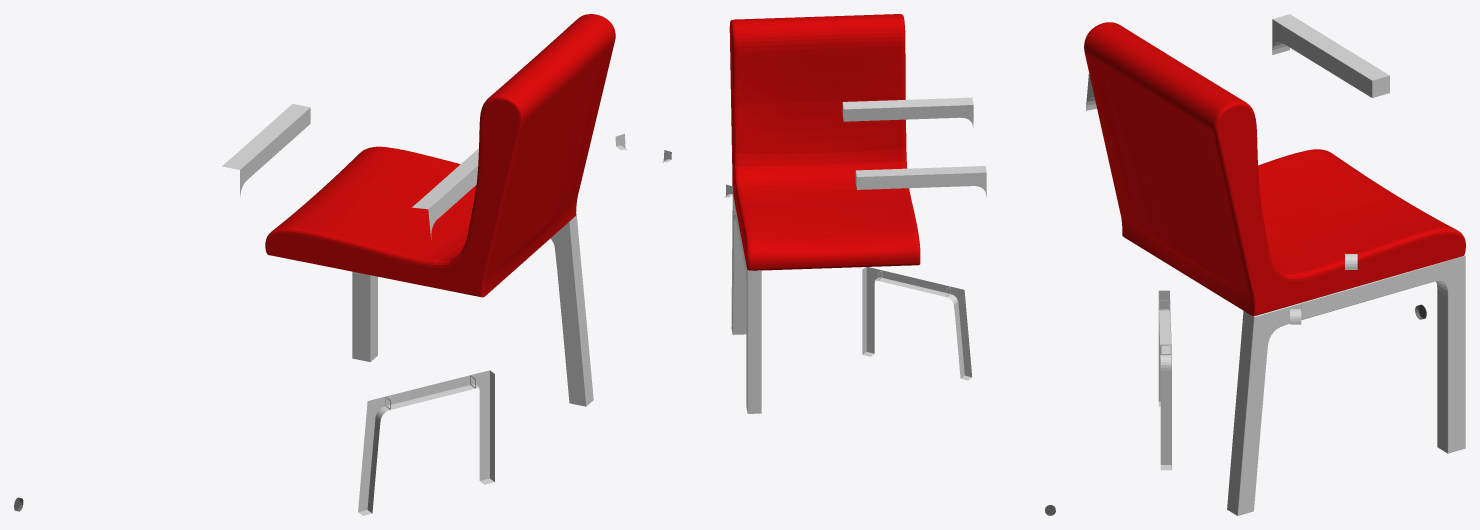
File: Chair Pedrali Gilda N100713.gltf
3 renders of one model, left to right at view 1: azimuth 30°, elevation 25°; view 2: azimuth 150°, elevation 25°; view 3: azimuth 270°, elevation 25°, orthographic. The views are drawn at different scales.
Parts seen in each view (by area): view 1: Line028, Line22, Line20, Object128, Object129; view 2: Line028, Line22, Line20, Object129, Object128; view 3: Line028, Line22, Object128, Line20, Line21.
Part boxes in pixels (bbox=[...]): Line028: bbox=[265, 14, 615, 297]; Line22: bbox=[352, 215, 593, 406]; Line20: bbox=[358, 370, 494, 515]; Object128: bbox=[230, 104, 310, 178]; Object129: bbox=[420, 148, 478, 218]; Line028: bbox=[729, 14, 920, 270]; Line22: bbox=[731, 195, 761, 413]; Line20: bbox=[862, 267, 972, 380]; Object129: bbox=[842, 98, 958, 121]; Object128: bbox=[855, 166, 971, 189]; Line028: bbox=[1084, 22, 1465, 316]; Line22: bbox=[1227, 254, 1465, 515]; Object128: bbox=[1284, 21, 1389, 97]; Line20: bbox=[1158, 290, 1171, 470]; Line21: bbox=[1272, 14, 1301, 54].
Size of the model in its own units: 1232 by 933 by 685.
